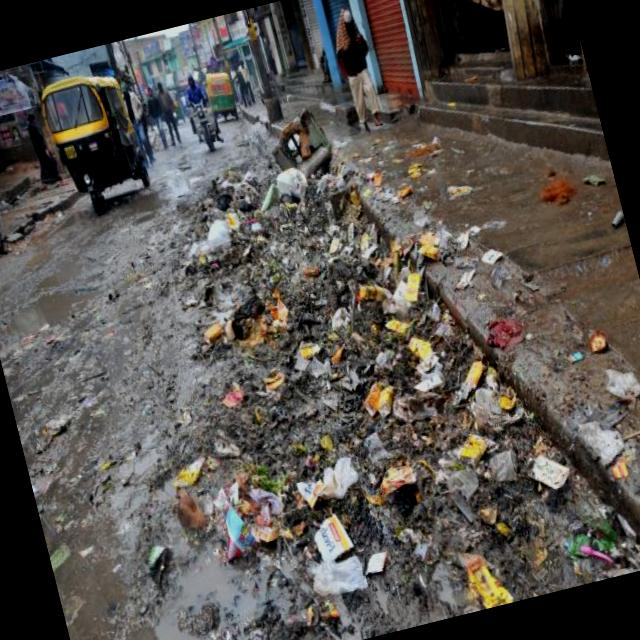garbage: (69, 69, 580, 640), (32, 490, 38, 494)
